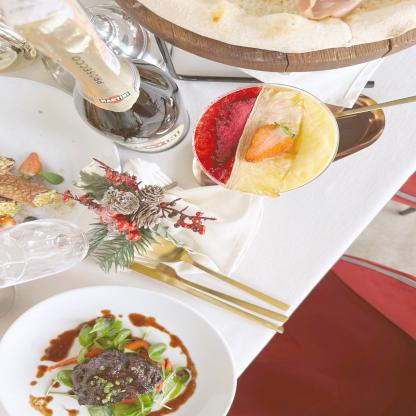Carne: (78, 359, 138, 405)
